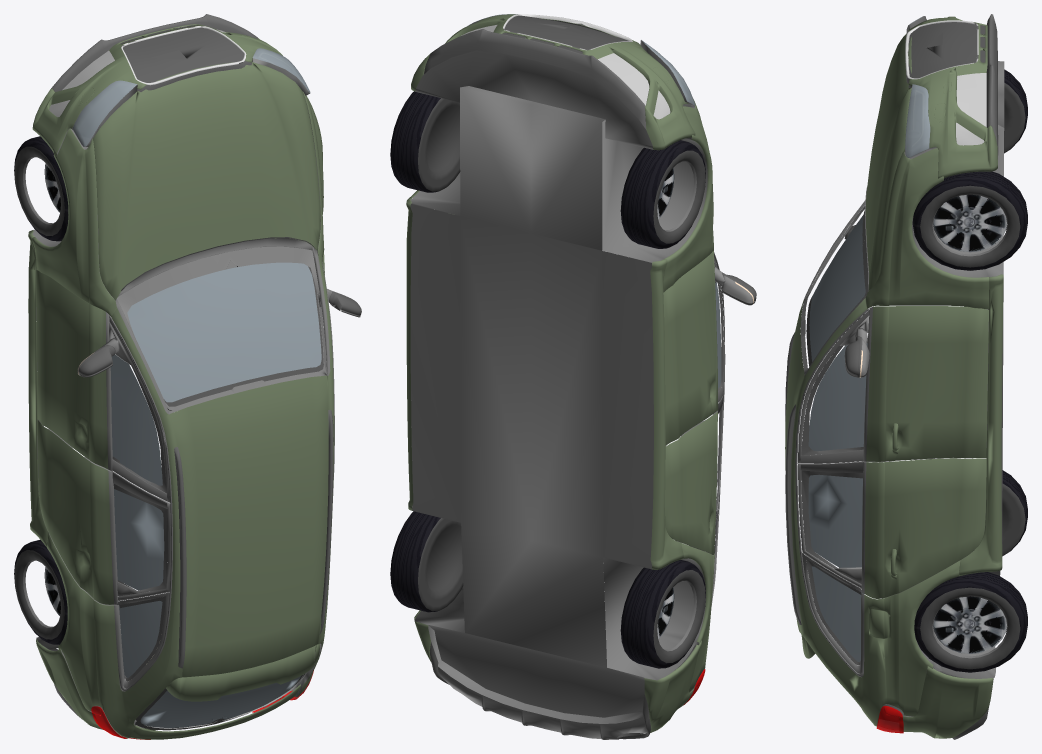
Rendered from stationwagon.gltf.
The picture shows the model from 3 angles, left to right: view 1: azimuth 30°, elevation 25°; view 2: azimuth 150°, elevation 25°; view 3: azimuth 270°, elevation 25°; orthographic projection. The views are drawn at different scales.
Visible parts, largest first — view 1: chassis_001, bonnet_ok_001, Windshield_001, door_lf_ok_001, bump_fro01_001, door_lr_ok_001, boot_ok_001, doorwin_001, doorwin01_001, lightglsbo_001, tyre01, tyre002 (+5 smaller); view 2: chassis_001, bump_fro01_001, tyre002, tyre01, door_lf_ok_001, bump_rea01_001, door_lr_ok_001; view 3: chassis_001, door_rf_ok_001, door_lr_ok_003, bump_fro01_001, tyre002, tyre01, bonnet_ok_001, doorwin01_002, bump_rea01_001, doorwin_002, Windshield_001, Quarter_Window_001 (+2 smaller).
Part boxes in pixels (x1,y1,x2,y2): chassis_001: [28, 91, 334, 738]; bonnet_ok_001: [93, 62, 320, 300]; Windshield_001: [127, 246, 323, 406]; door_lf_ok_001: [36, 270, 170, 502]; bump_fro01_001: [32, 14, 282, 155]; door_lr_ok_001: [37, 420, 170, 604]; boot_ok_001: [129, 643, 320, 739]; doorwin_001: [110, 355, 162, 485]; doorwin01_001: [114, 489, 164, 590]; lightglsbo_001: [135, 674, 304, 730]; tyre01: [14, 136, 68, 241]; tyre002: [14, 539, 67, 644]; chassis_001: [406, 84, 725, 717]; bump_fro01_001: [411, 14, 695, 150]; tyre002: [390, 511, 705, 668]; tyre01: [390, 91, 705, 248]; door_lf_ok_001: [663, 250, 756, 445]; bump_rea01_001: [414, 610, 701, 739]; door_lr_ok_001: [665, 394, 723, 554]; chassis_001: [785, 61, 1004, 726]; door_rf_ok_001: [798, 306, 988, 463]; door_lr_ok_003: [798, 458, 986, 598]; bump_fro01_001: [905, 14, 998, 178]; tyre002: [914, 470, 1027, 672]; tyre01: [912, 69, 1027, 270]; bonnet_ok_001: [865, 33, 911, 290]; doorwin01_002: [808, 474, 862, 567]; bump_rea01_001: [899, 665, 993, 739]; doorwin_002: [808, 343, 867, 451]; Windshield_001: [806, 215, 865, 366]; Quarter_Window_001: [812, 566, 863, 664].
Size of the model in its own units: 0.5576 by 1.28 by 0.4193.
31 materials, 2 textured.
